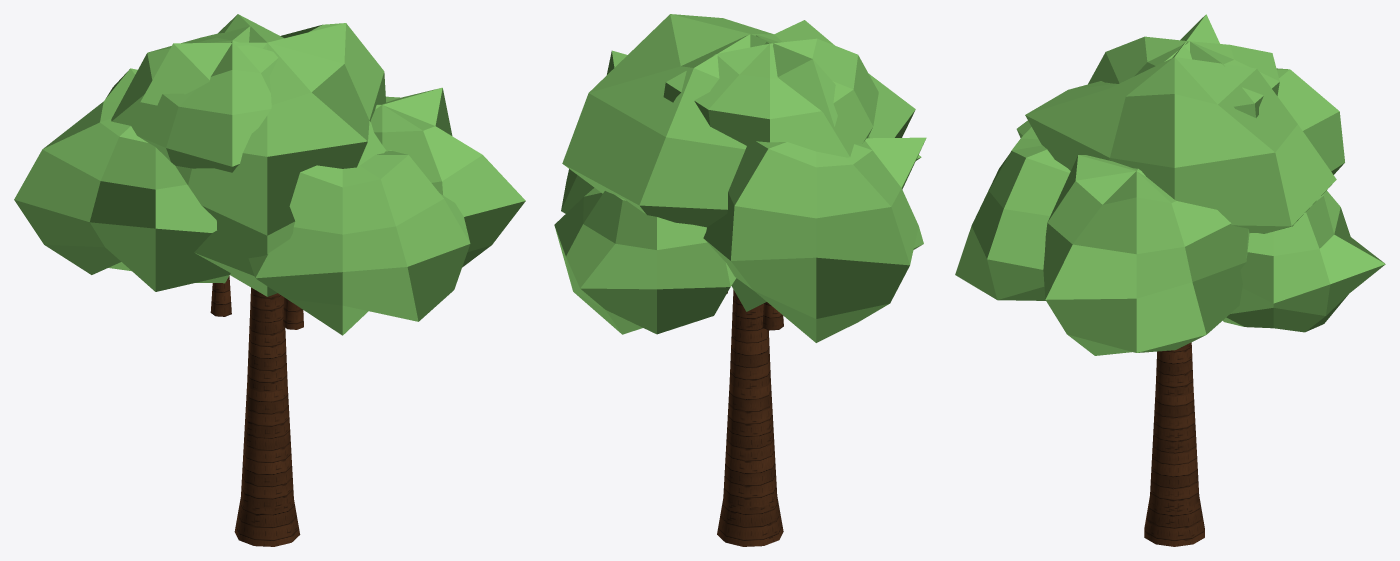
The model's file is tree.glb.
3 views of the same model, side by side, from view 1: azimuth 30°, elevation 25°; view 2: azimuth 150°, elevation 25°; view 3: azimuth 270°, elevation 25° (orthographic). The views are drawn at different scales.
Parts seen in each view (by area): view 1: tree; view 2: tree; view 3: tree.
Part boxes in pixels (box(x1,y1,x2,y2)): tree: box(14, 14, 525, 546); tree: box(554, 14, 926, 546); tree: box(955, 14, 1385, 546).
Bounding box in the file's own units: 5.97 × 6.99 × 5.66.
2 materials, 1 textured.
